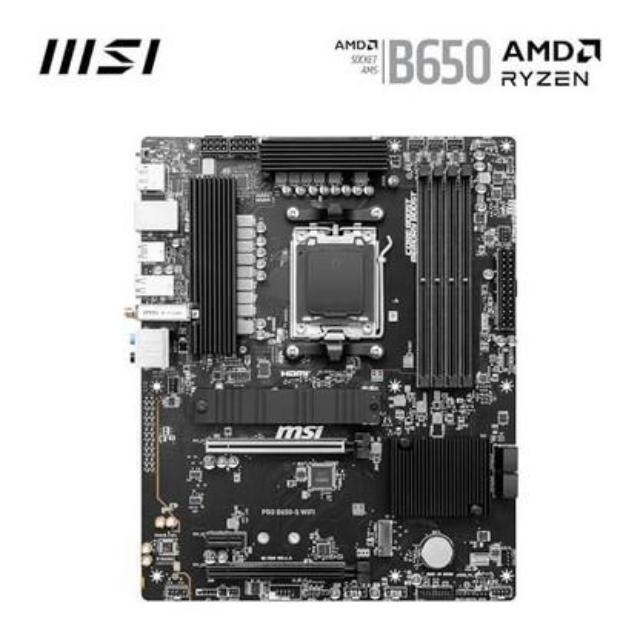Mainboard: (131, 129, 526, 600)
